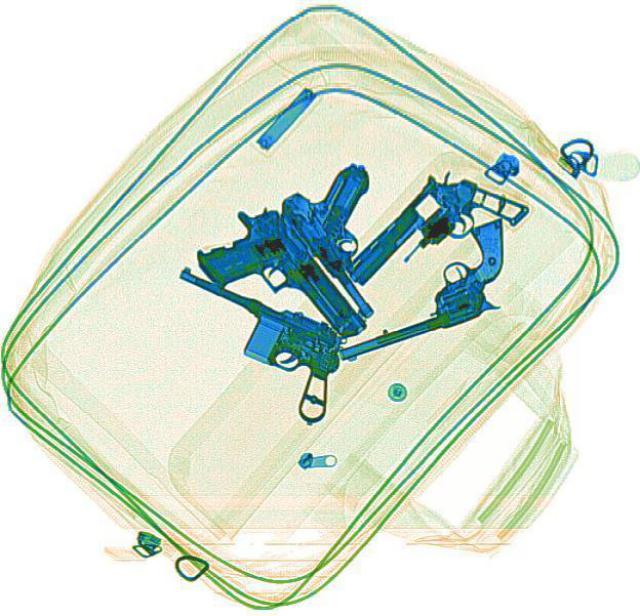Gun: (133, 258, 365, 426), (334, 149, 530, 326), (182, 193, 368, 375), (306, 215, 536, 361), (270, 153, 446, 317)
